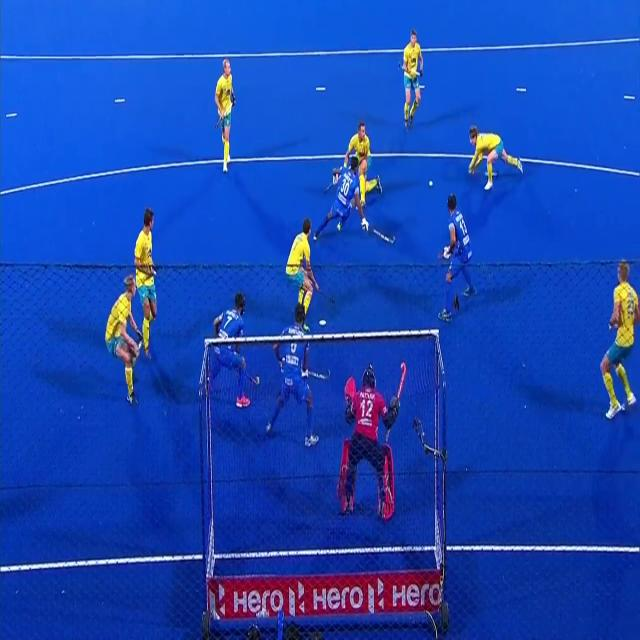ball: (427, 177, 434, 191)
